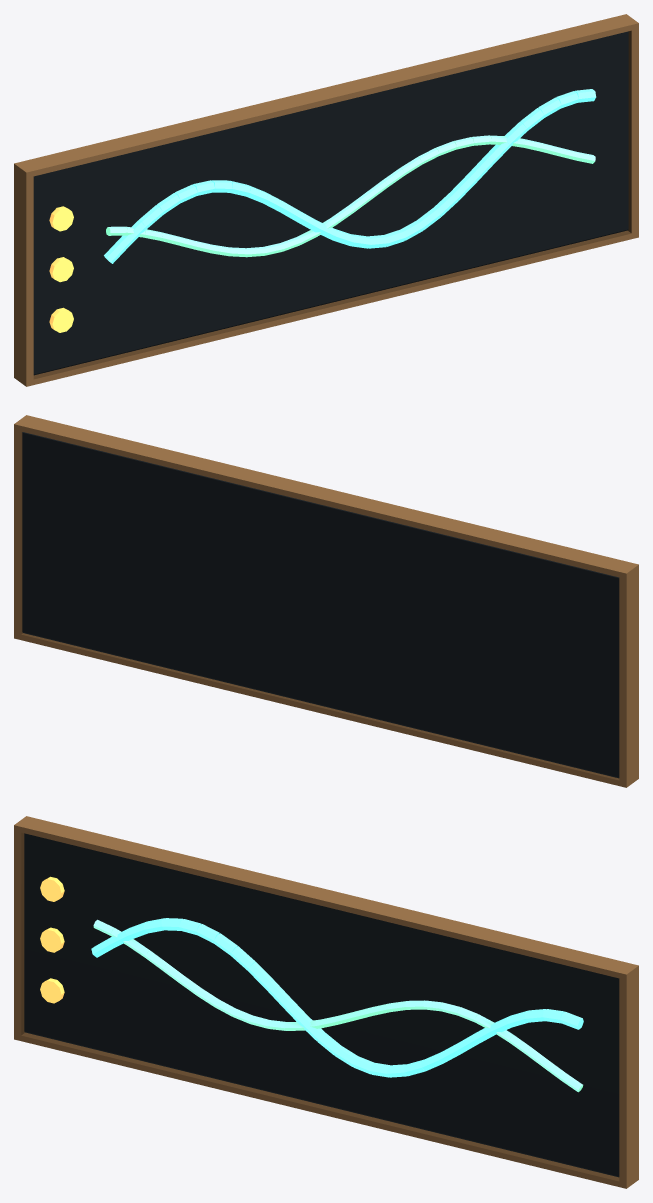
The model's file is neon-wave.lod0.glb.
3 views of the same model, one above another, from view 1: azimuth 30°, elevation 25°; view 2: azimuth 150°, elevation 25°; view 3: azimuth 330°, elevation 25° (orthographic).
Parts seen in each view (by area): view 1: structure; view 2: structure; view 3: structure.
Boxes of the visible parts, x1,y1,x2,y2 form: structure: [14, 14, 638, 386]; structure: [14, 415, 638, 787]; structure: [14, 816, 638, 1188].
Bounding box in the file's own units: 3.41 × 1.14 × 0.1501.
